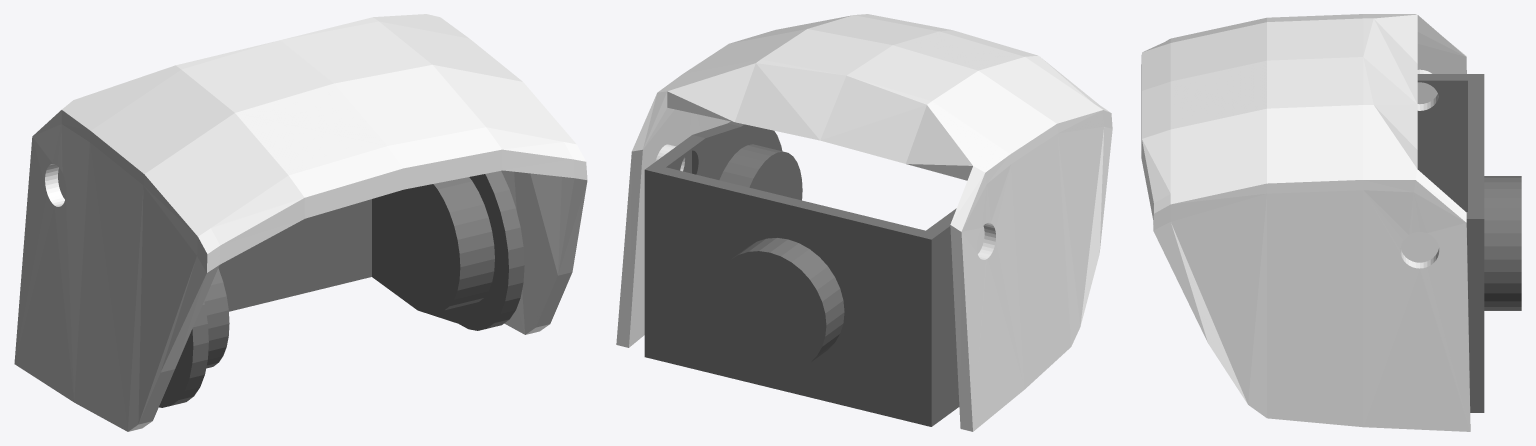
File: shoulder.dae
3 renders of one model, left to right at view 1: azimuth 30°, elevation 25°; view 2: azimuth 150°, elevation 25°; view 3: azimuth 270°, elevation 25°, orthographic. The views are drawn at different scales.
Visible parts, largest first — view 1: 立方体; view 2: 立方体; view 3: 立方体.
Part boxes in pixels (bbox=[...]): 立方体: bbox=[14, 14, 587, 431]; 立方体: bbox=[616, 14, 1112, 431]; 立方体: bbox=[1141, 14, 1521, 431].
Size of the model in its own units: 0.0398 by 0.0355 by 0.0293.
Materials: 1 (1 with a texture image).
